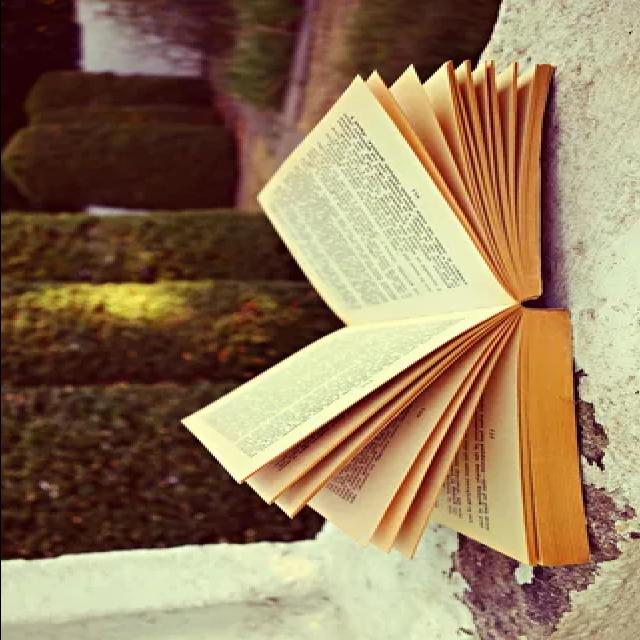book: (156, 44, 608, 580)
